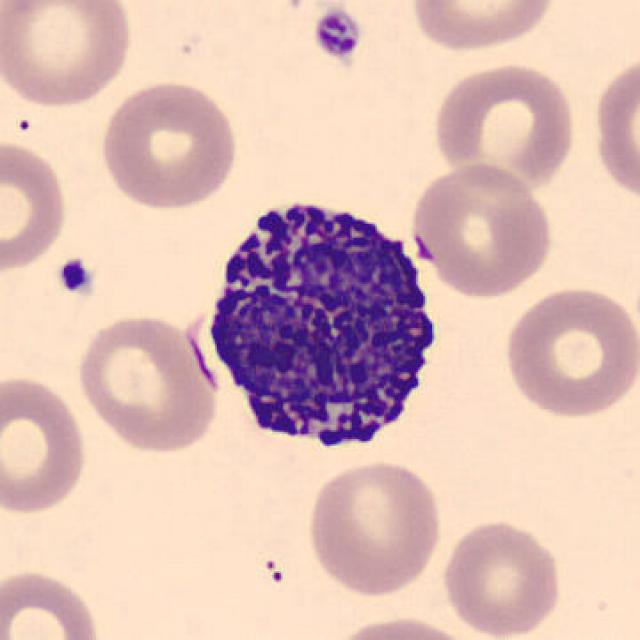Basophil: (192, 182, 455, 469)
Platelets: (310, 5, 364, 66), (53, 254, 96, 300)
RBC: (71, 310, 222, 457), (407, 160, 557, 300), (428, 58, 580, 196), (302, 455, 446, 599), (96, 76, 242, 212), (500, 282, 638, 421), (438, 517, 566, 638), (0, 0, 137, 111), (0, 371, 91, 518), (0, 136, 71, 275), (407, 0, 560, 55), (588, 46, 638, 213), (0, 566, 105, 640), (326, 612, 478, 640)
